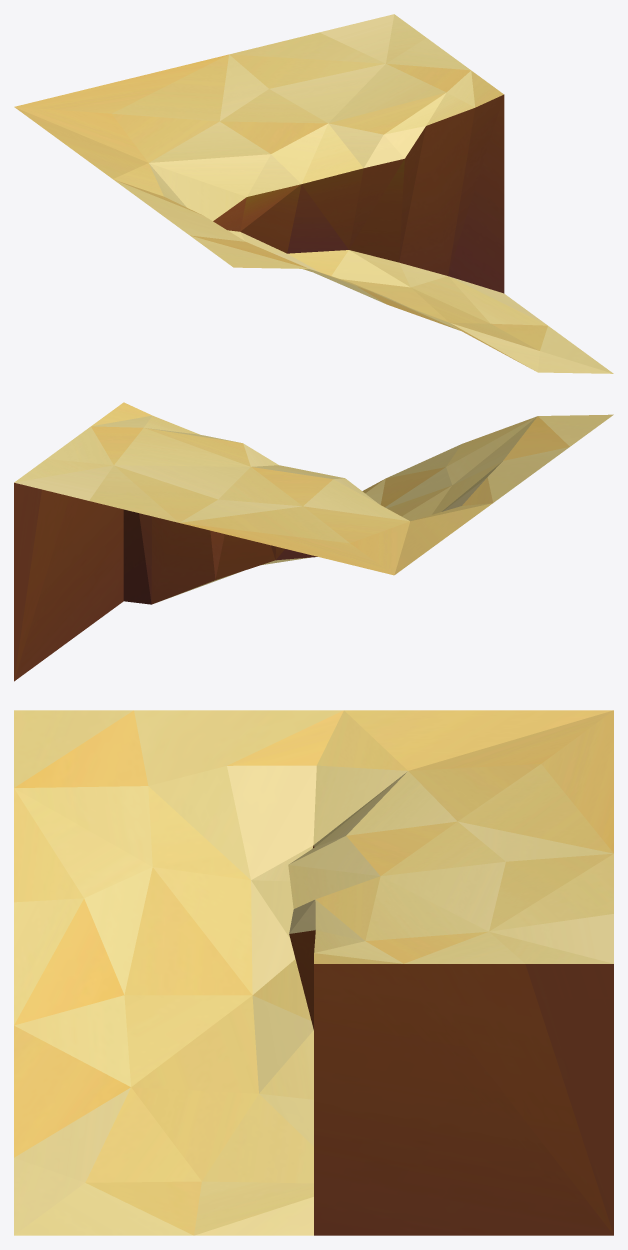
The model's file is GL-Terrain-part-17-LOD3.fbx.
The picture shows the model from 3 angles, top to bottom: view 1: azimuth 30°, elevation 25°; view 2: azimuth 150°, elevation 25°; view 3: azimuth 270°, elevation 25°; orthographic projection. The views are drawn at different scales.
Visible parts, largest first — view 1: GL_Terrain_part_17; view 2: GL_Terrain_part_17; view 3: GL_Terrain_part_17.
Part boxes in pixels (bbox=[...]): GL_Terrain_part_17: bbox=[14, 14, 613, 373]; GL_Terrain_part_17: bbox=[14, 402, 613, 681]; GL_Terrain_part_17: bbox=[14, 710, 613, 1235].
Bounding box in the file's own units: 6 × 3 × 6.
